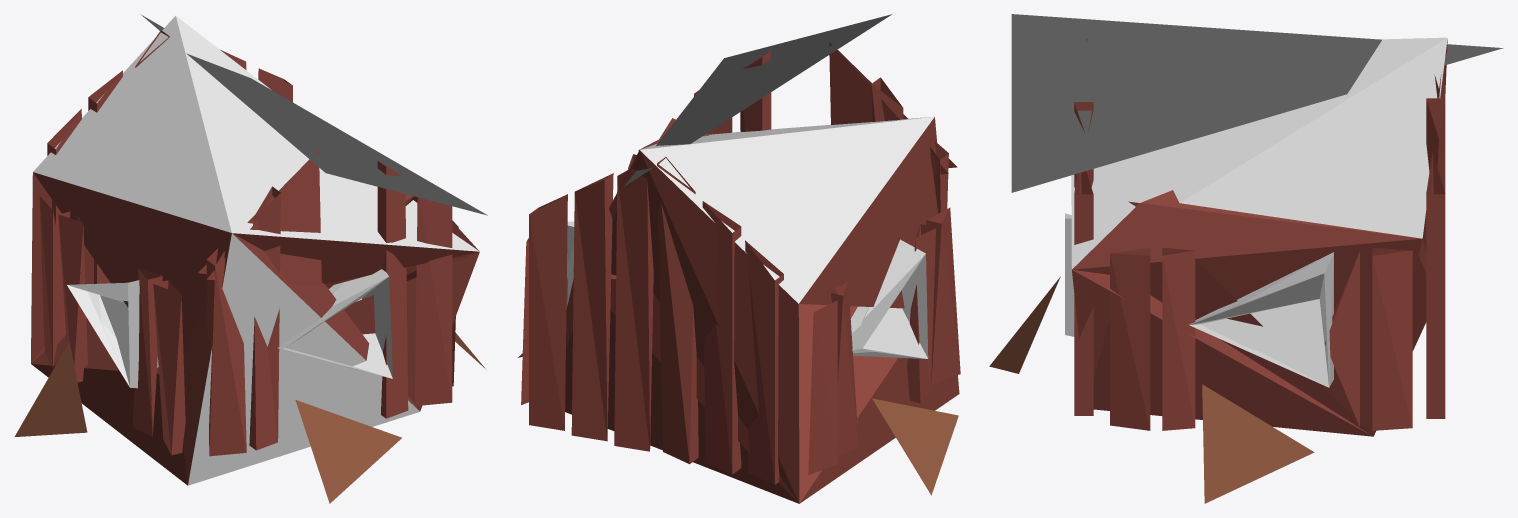
File: ChickenCoop.lod2.glb
3 views of the same model, side by side, from view 1: azimuth 30°, elevation 25°; view 2: azimuth 150°, elevation 25°; view 3: azimuth 270°, elevation 25° (orthographic). The views are drawn at different scales.
Parts seen in each view (by area): view 1: ChickenCoop; view 2: ChickenCoop; view 3: ChickenCoop.
Part boxes in pixels (bbox=[...]): ChickenCoop: bbox=[14, 14, 487, 503]; ChickenCoop: bbox=[518, 14, 960, 503]; ChickenCoop: bbox=[989, 14, 1503, 503].
Size of the model in its own units: 2.1 by 1.53 by 2.
